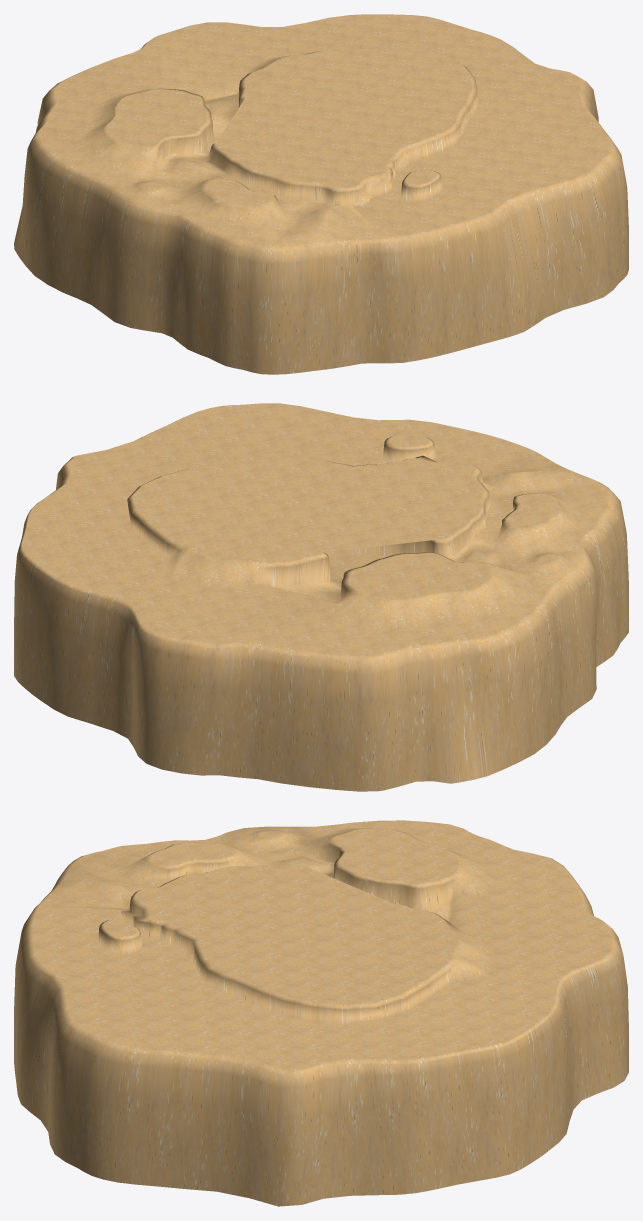
File: sand mesh test.fbx
3 views of the same model, one above another, from view 1: azimuth 30°, elevation 25°; view 2: azimuth 150°, elevation 25°; view 3: azimuth 270°, elevation 25° (orthographic). The views are drawn at different scales.
Visible parts, largest first — view 1: PolyShape_57_3; view 2: PolyShape_57_3; view 3: PolyShape_57_3.
Boxes of the visible parts, <box> form: PolyShape_57_3: <box>14,14,628,374</box>; PolyShape_57_3: <box>14,403,628,791</box>; PolyShape_57_3: <box>14,820,628,1206</box>.
Bounding box in the file's own units: 6.19 × 1.6 × 6.07.
